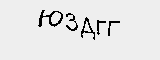Г: (105, 19, 122, 41), (93, 18, 108, 38)
Д: (78, 11, 96, 41)
З: (63, 11, 80, 33)
Ю: (36, 6, 66, 32)
